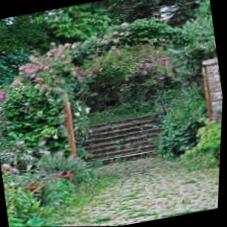Bench: (66, 98, 175, 173)
